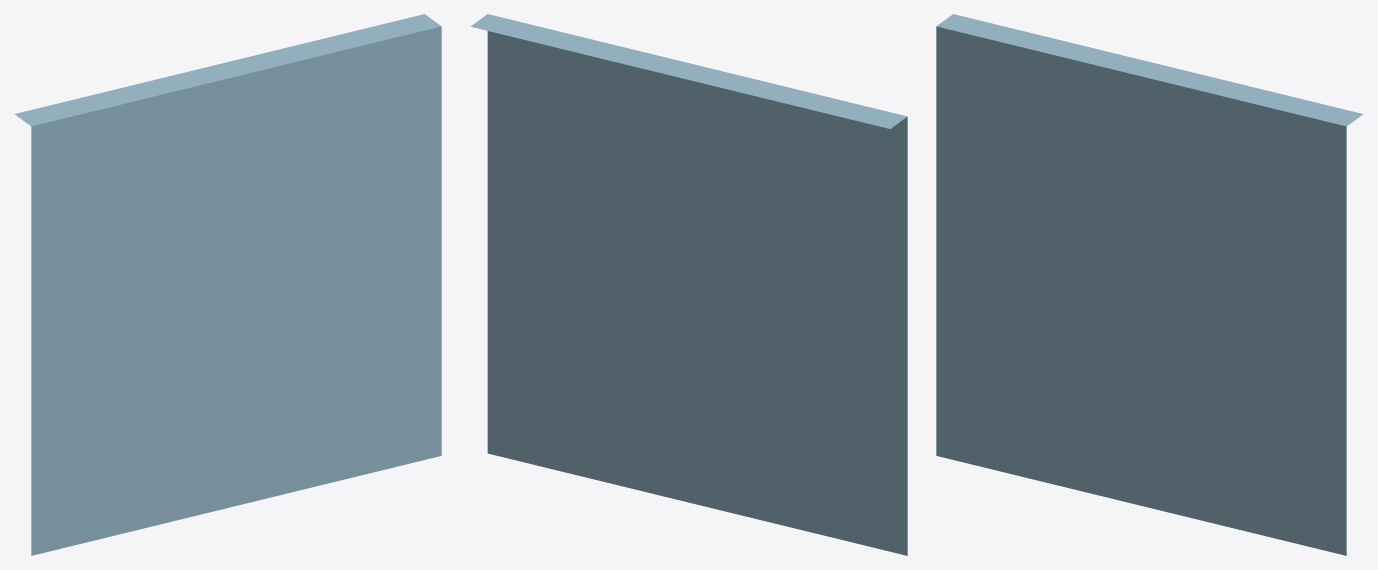
Rendered from M_Wall350Marine100.fbx.
3 renders of one model, left to right at view 1: azimuth 30°, elevation 25°; view 2: azimuth 150°, elevation 25°; view 3: azimuth 330°, elevation 25°, orthographic. The views are drawn at different scales.
Visible parts, largest first — view 1: M_Wall350Marine100; view 2: M_Wall350Marine100; view 3: M_Wall350Marine100.
Part boxes in pixels (bbox=[...]): M_Wall350Marine100: bbox=[14, 14, 441, 555]; M_Wall350Marine100: bbox=[471, 14, 907, 555]; M_Wall350Marine100: bbox=[936, 14, 1363, 555].
Size of the model in its own units: 350 by 25 by 350.
